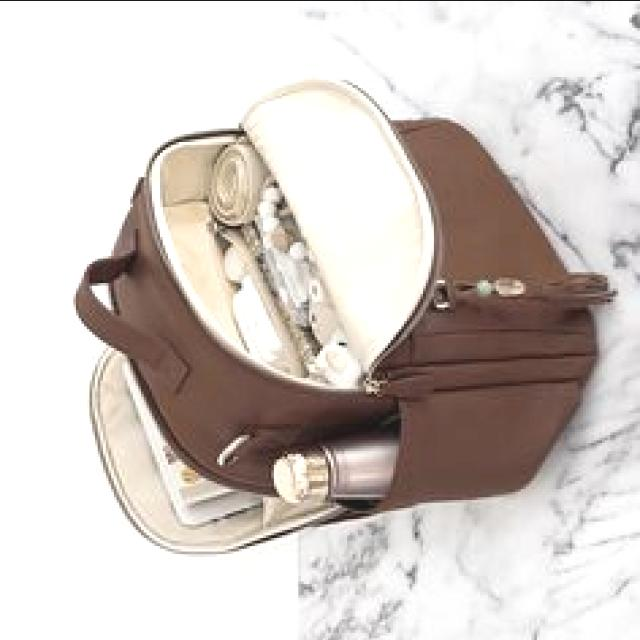backpack: (72, 80, 614, 558)
